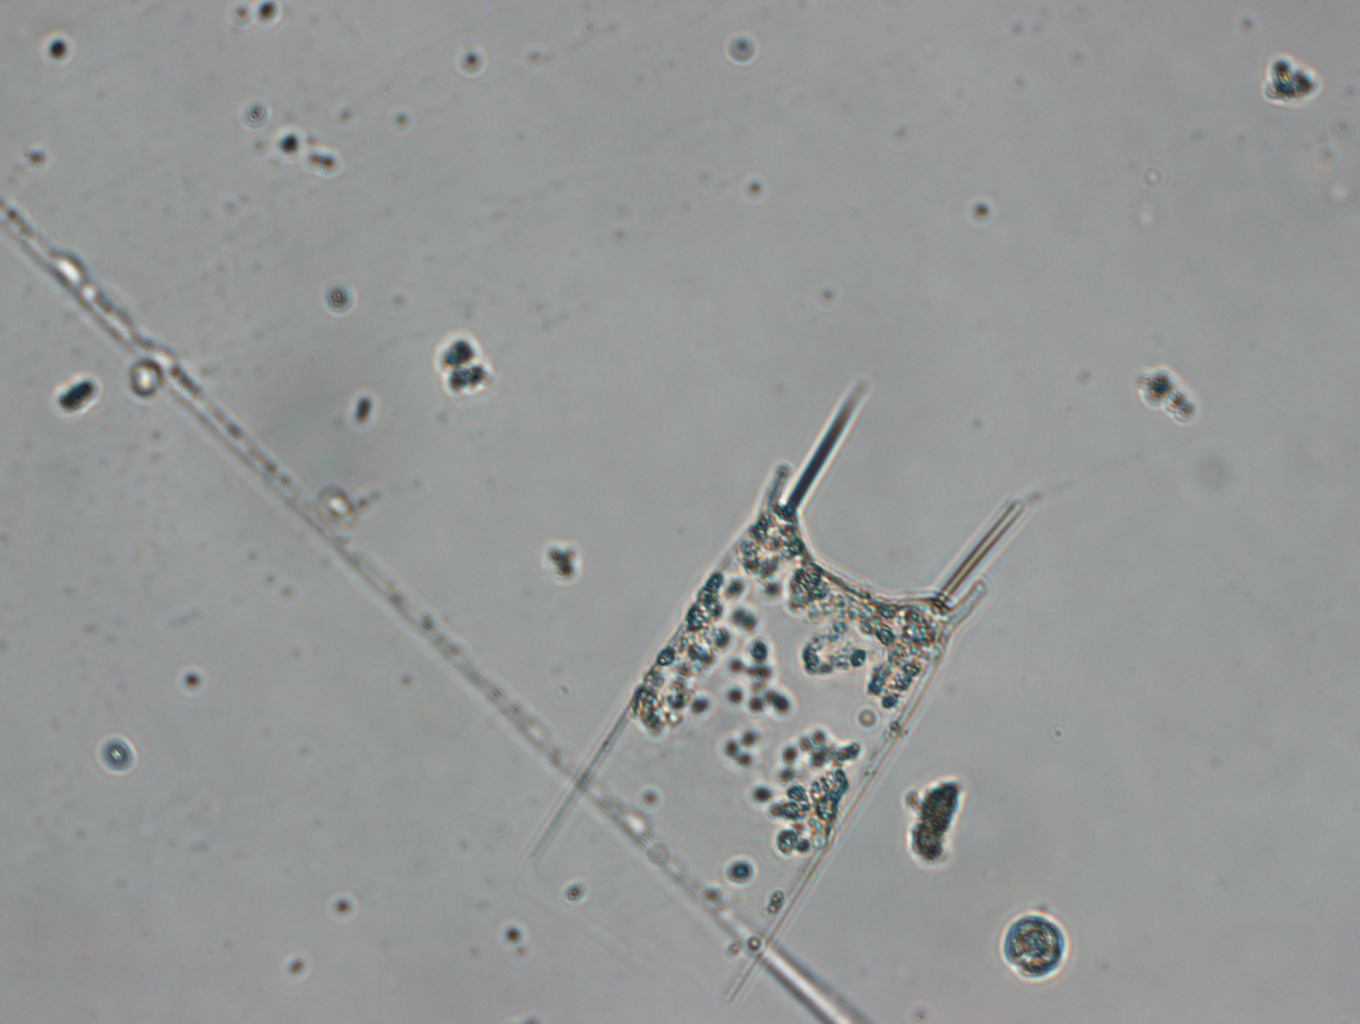biddulphia: (514, 380, 1036, 973)
